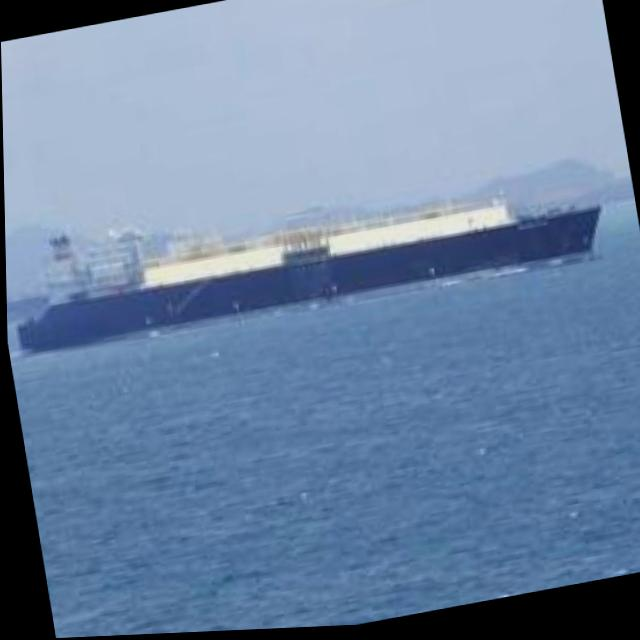ship2: (9, 201, 600, 352)
